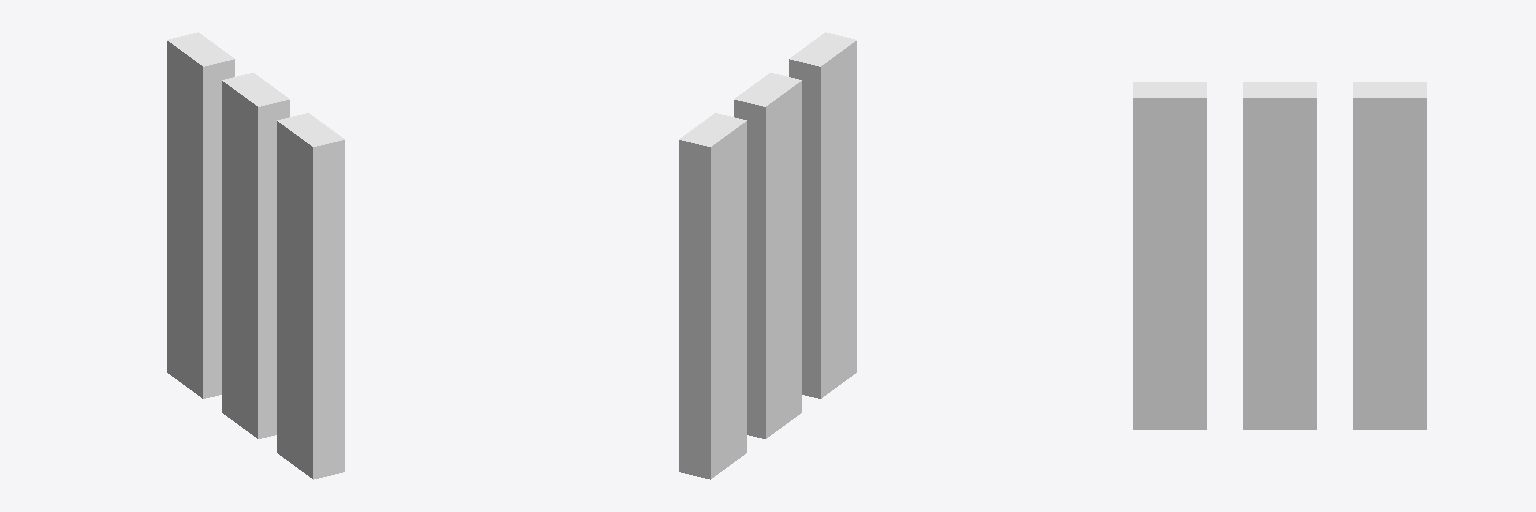
The model's file is SH_Enviorment-5-Floor_BoardsA.obj.
3 views of the same model, side by side, from view 1: azimuth 30°, elevation 25°; view 2: azimuth 150°, elevation 25°; view 3: azimuth 270°, elevation 25° (orthographic).
Parts seen in each view (by area): view 1: Floor_BoardsA; view 2: Floor_BoardsA; view 3: Floor_BoardsA.
Part boxes in pixels (left/top/right/bottom): Floor_BoardsA: left=167, top=32, right=344, bottom=479; Floor_BoardsA: left=679, top=32, right=856, bottom=479; Floor_BoardsA: left=1133, top=82, right=1426, bottom=429.
Bounding box in the file's own units: 0.1 × 1 × 0.8.